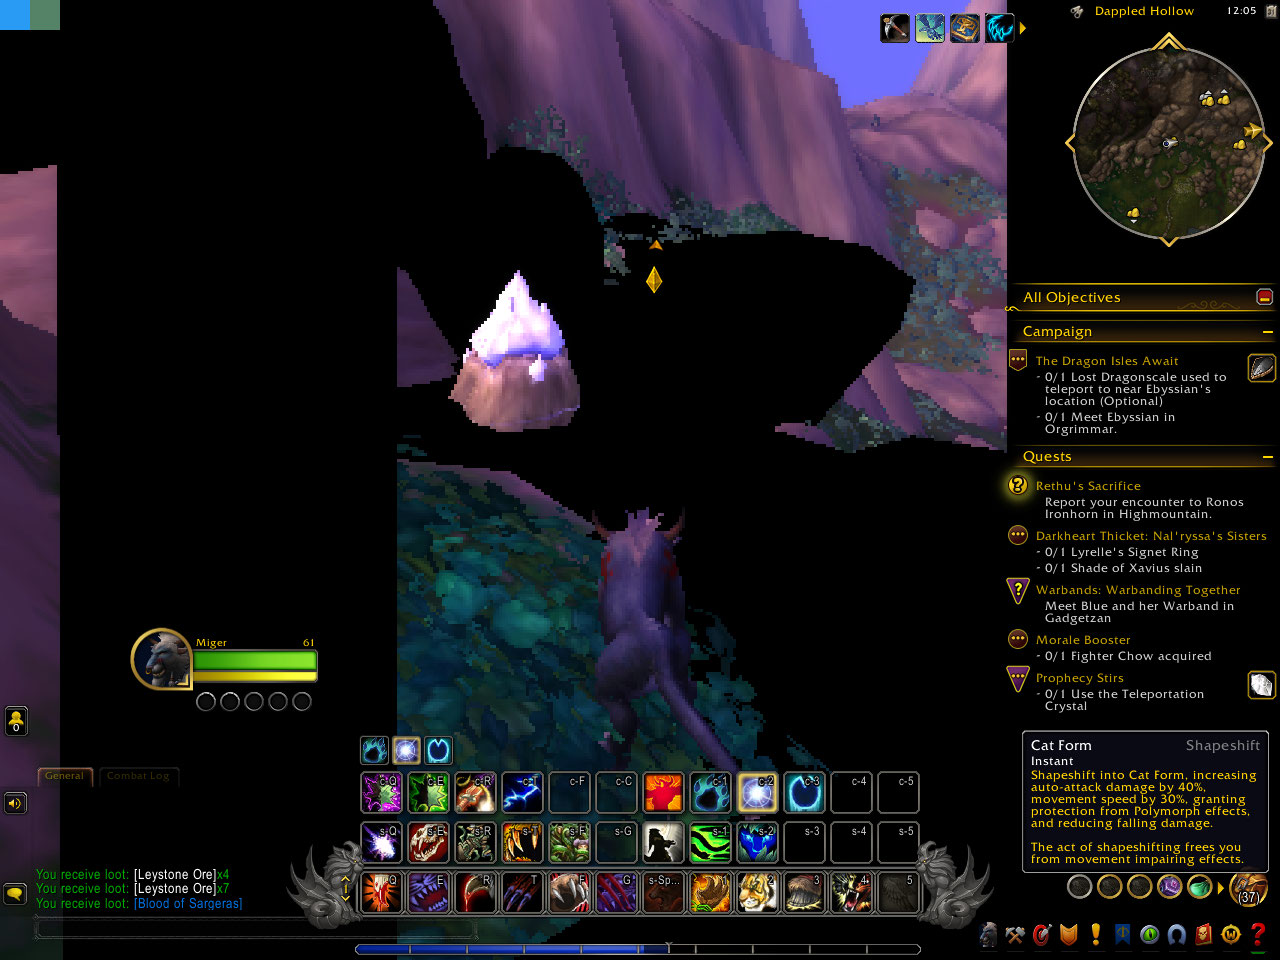ore: (446, 270, 586, 434)
